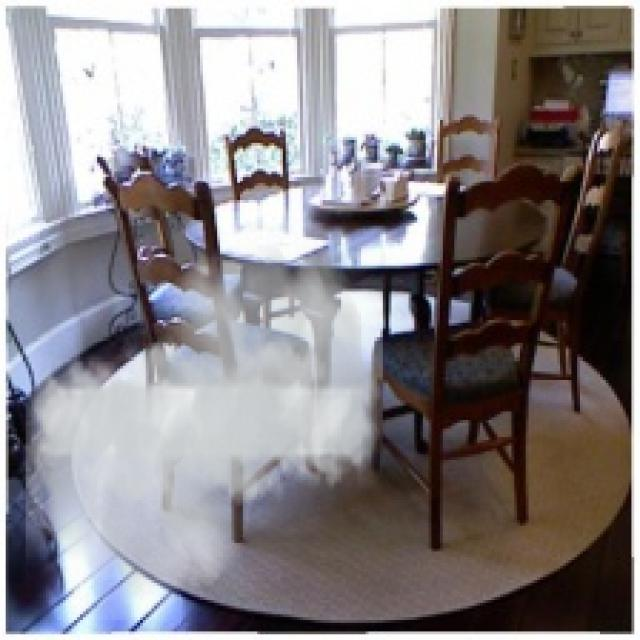smoke: (26, 223, 383, 620)
